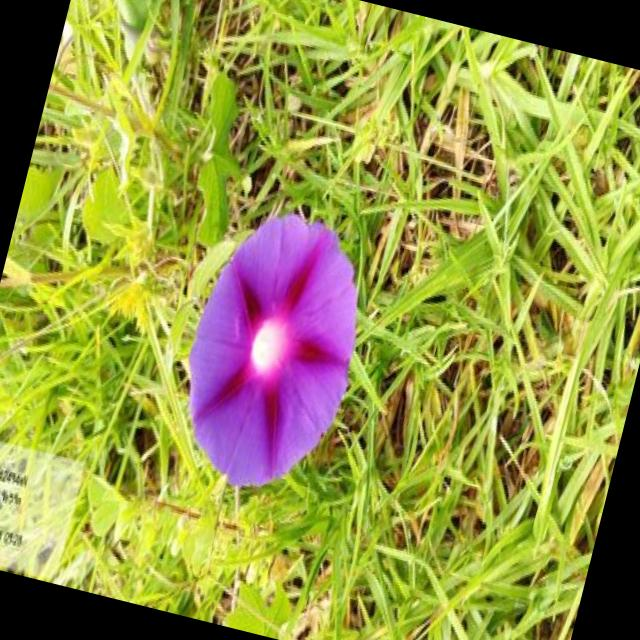ipomoea: (157, 192, 387, 510)
